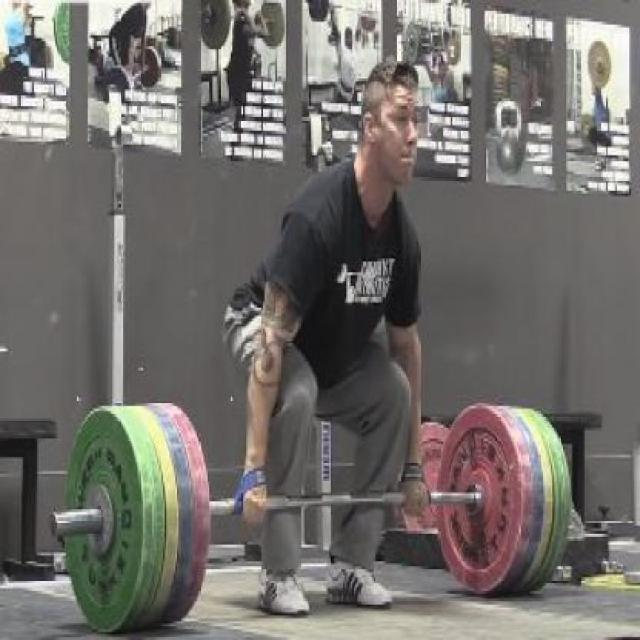Barbell: (46, 509, 63, 542)
